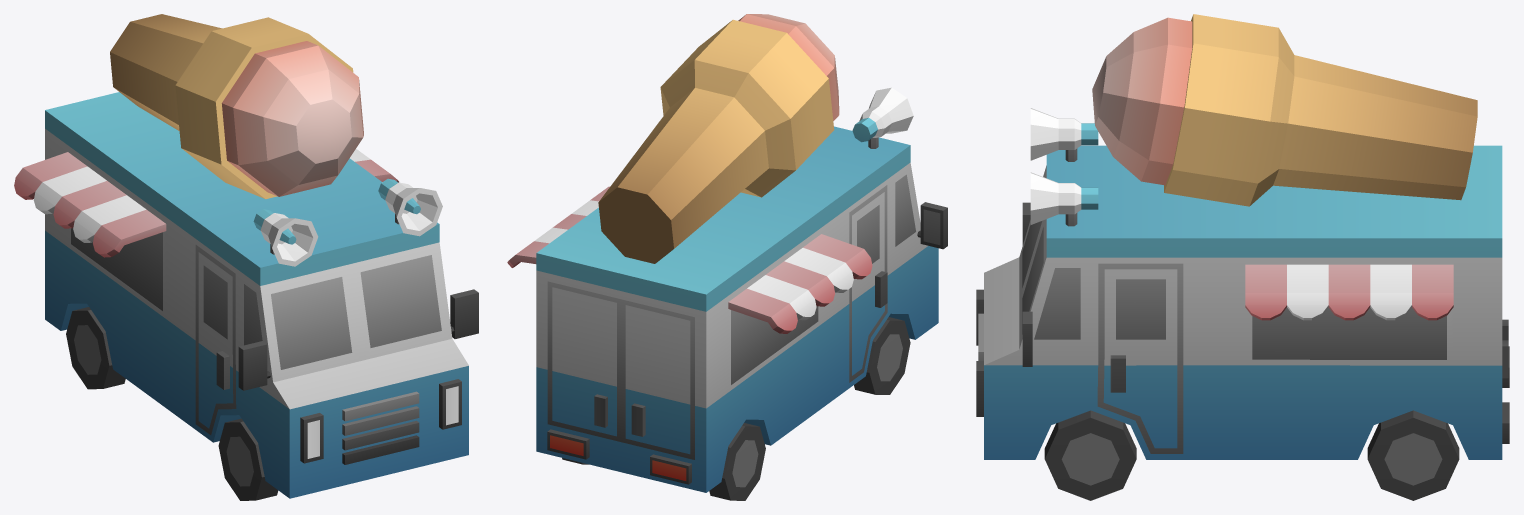
Rendered from ice cream truck.fbx.
The picture shows the model from 3 angles, left to right: view 1: azimuth 30°, elevation 25°; view 2: azimuth 150°, elevation 25°; view 3: azimuth 270°, elevation 25°; orthographic projection. The views are drawn at different scales.
Parts seen in each view (by area): view 1: ice_cream_body, rear_wheels, front_wheel_1; view 2: ice_cream_body, rear_wheels, front_wheel_1; view 3: ice_cream_body, front_wheel_2, rear_wheels.
Boxes of the visible parts, x1,y1,x2,y2 form: ice_cream_body: (14, 14, 478, 498); rear_wheels: (66, 307, 125, 389); front_wheel_1: (218, 418, 278, 500); ice_cream_body: (507, 14, 947, 492); rear_wheels: (562, 423, 765, 500); front_wheel_1: (854, 317, 910, 394); ice_cream_body: (976, 14, 1509, 459); front_wheel_2: (1044, 410, 1136, 500); rear_wheels: (1367, 410, 1459, 500).
Bounding box in the file's own units: 257 × 332 × 376.
1 material, 1 textured.
